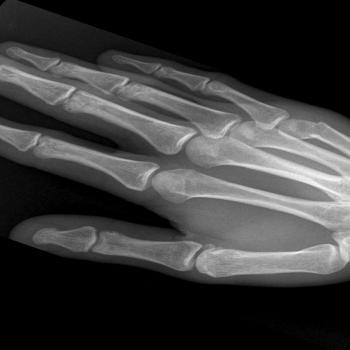Fracture: (299, 117, 335, 142)
